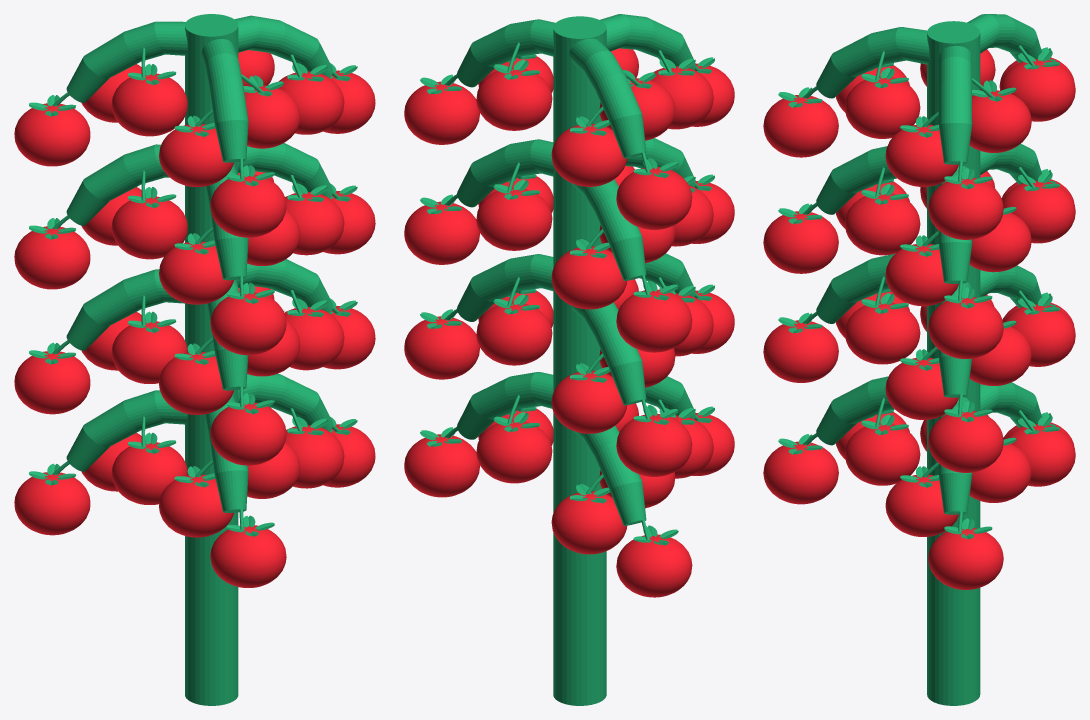
The model's file is tomatenlos2.fbx.
The picture shows the model from 3 angles, left to right: view 1: azimuth 30°, elevation 25°; view 2: azimuth 150°, elevation 25°; view 3: azimuth 270°, elevation 25°; orthographic projection.
Parts seen in each view (by area): view 1: Cylinder, Cylinder.048, Cylinder.025, Sphere.042, Sphere.021, Sphere.036, Sphere.020, Sphere.041, Sphere.035, Sphere.023, Sphere.024, Sphere.029 (+70 smaller); view 2: Cylinder, Cylinder.025, Cylinder.033, Sphere.023, Sphere.024, Sphere.029, Sphere.009, Sphere.014, Sphere.018, Sphere.003, Sphere.008, Sphere.011 (+58 smaller); view 3: Cylinder, Cylinder.008, Sphere.011, Sphere.012, Sphere.005, Sphere.033, Sphere.006, Sphere.038, Sphere.039, Sphere.044, Sphere.036, Sphere.042 (+57 smaller).
Part boxes in pixels (left/top/right/bottom): Cylinder: left=185, top=14, right=238, bottom=705; Cylinder.048: left=201, top=39, right=248, bottom=159; Cylinder.025: left=66, top=21, right=187, bottom=98; Sphere.042: left=210, top=525, right=286, bottom=572; Sphere.021: left=111, top=196, right=187, bottom=243; Sphere.036: left=210, top=292, right=286, bottom=339; Sphere.020: left=111, top=73, right=187, bottom=120; Sphere.041: left=210, top=402, right=286, bottom=449; Sphere.035: left=210, top=175, right=286, bottom=221; Sphere.023: left=14, top=226, right=90, bottom=273; Sphere.024: left=14, top=351, right=90, bottom=398; Sphere.029: left=14, top=472, right=90, bottom=519; Cylinder: left=553, top=16, right=606, bottom=705; Cylinder.025: left=569, top=38, right=646, bottom=155; Cylinder.033: left=579, top=302, right=646, bottom=402; Sphere.023: left=616, top=289, right=692, bottom=336; Sphere.024: left=616, top=414, right=692, bottom=461; Sphere.029: left=616, top=534, right=692, bottom=581; Sphere.009: left=476, top=302, right=552, bottom=349; Sphere.014: left=476, top=420, right=552, bottom=467; Sphere.018: left=616, top=167, right=692, bottom=214; Sphere.003: left=476, top=67, right=552, bottom=115; Sphere.008: left=476, top=187, right=552, bottom=235; Sphere.011: left=404, top=316, right=479, bottom=363; Cylinder: left=927, top=21, right=980, bottom=705; Cylinder.008: left=938, top=45, right=972, bottom=161; Sphere.011: left=928, top=411, right=1003, bottom=457; Sphere.012: left=928, top=528, right=1003, bottom=574; Sphere.005: left=928, top=178, right=1003, bottom=224; Sphere.033: left=845, top=76, right=920, bottom=123; Sphere.006: left=928, top=297, right=1003, bottom=343; Sphere.038: left=845, top=192, right=920, bottom=239; Sphere.039: left=845, top=301, right=920, bottom=348; Sphere.044: left=845, top=423, right=920, bottom=470; Sphere.036: left=763, top=211, right=838, bottom=258; Sphere.042: left=763, top=441, right=838, bottom=488.
Bounding box in the file's own units: 127 × 258 × 110.
